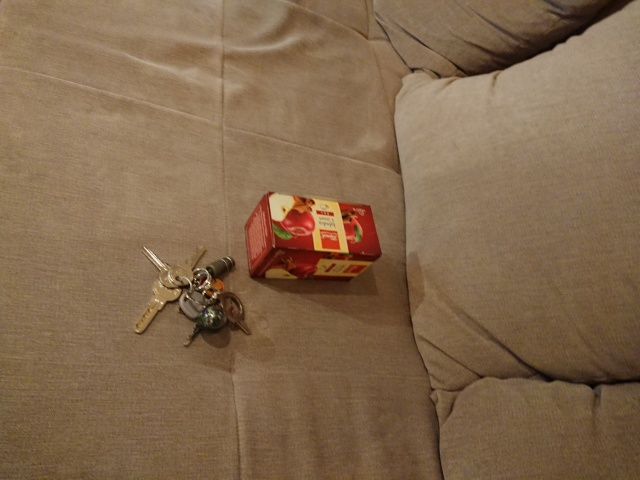Franck Apple Cinnamon Tea 60g: (241, 188, 384, 285)
